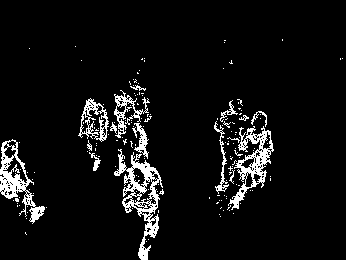person: (122, 146, 166, 260), (226, 109, 276, 209), (1, 139, 45, 222), (212, 98, 247, 193), (110, 90, 149, 175), (79, 97, 107, 171), (127, 76, 153, 124)
